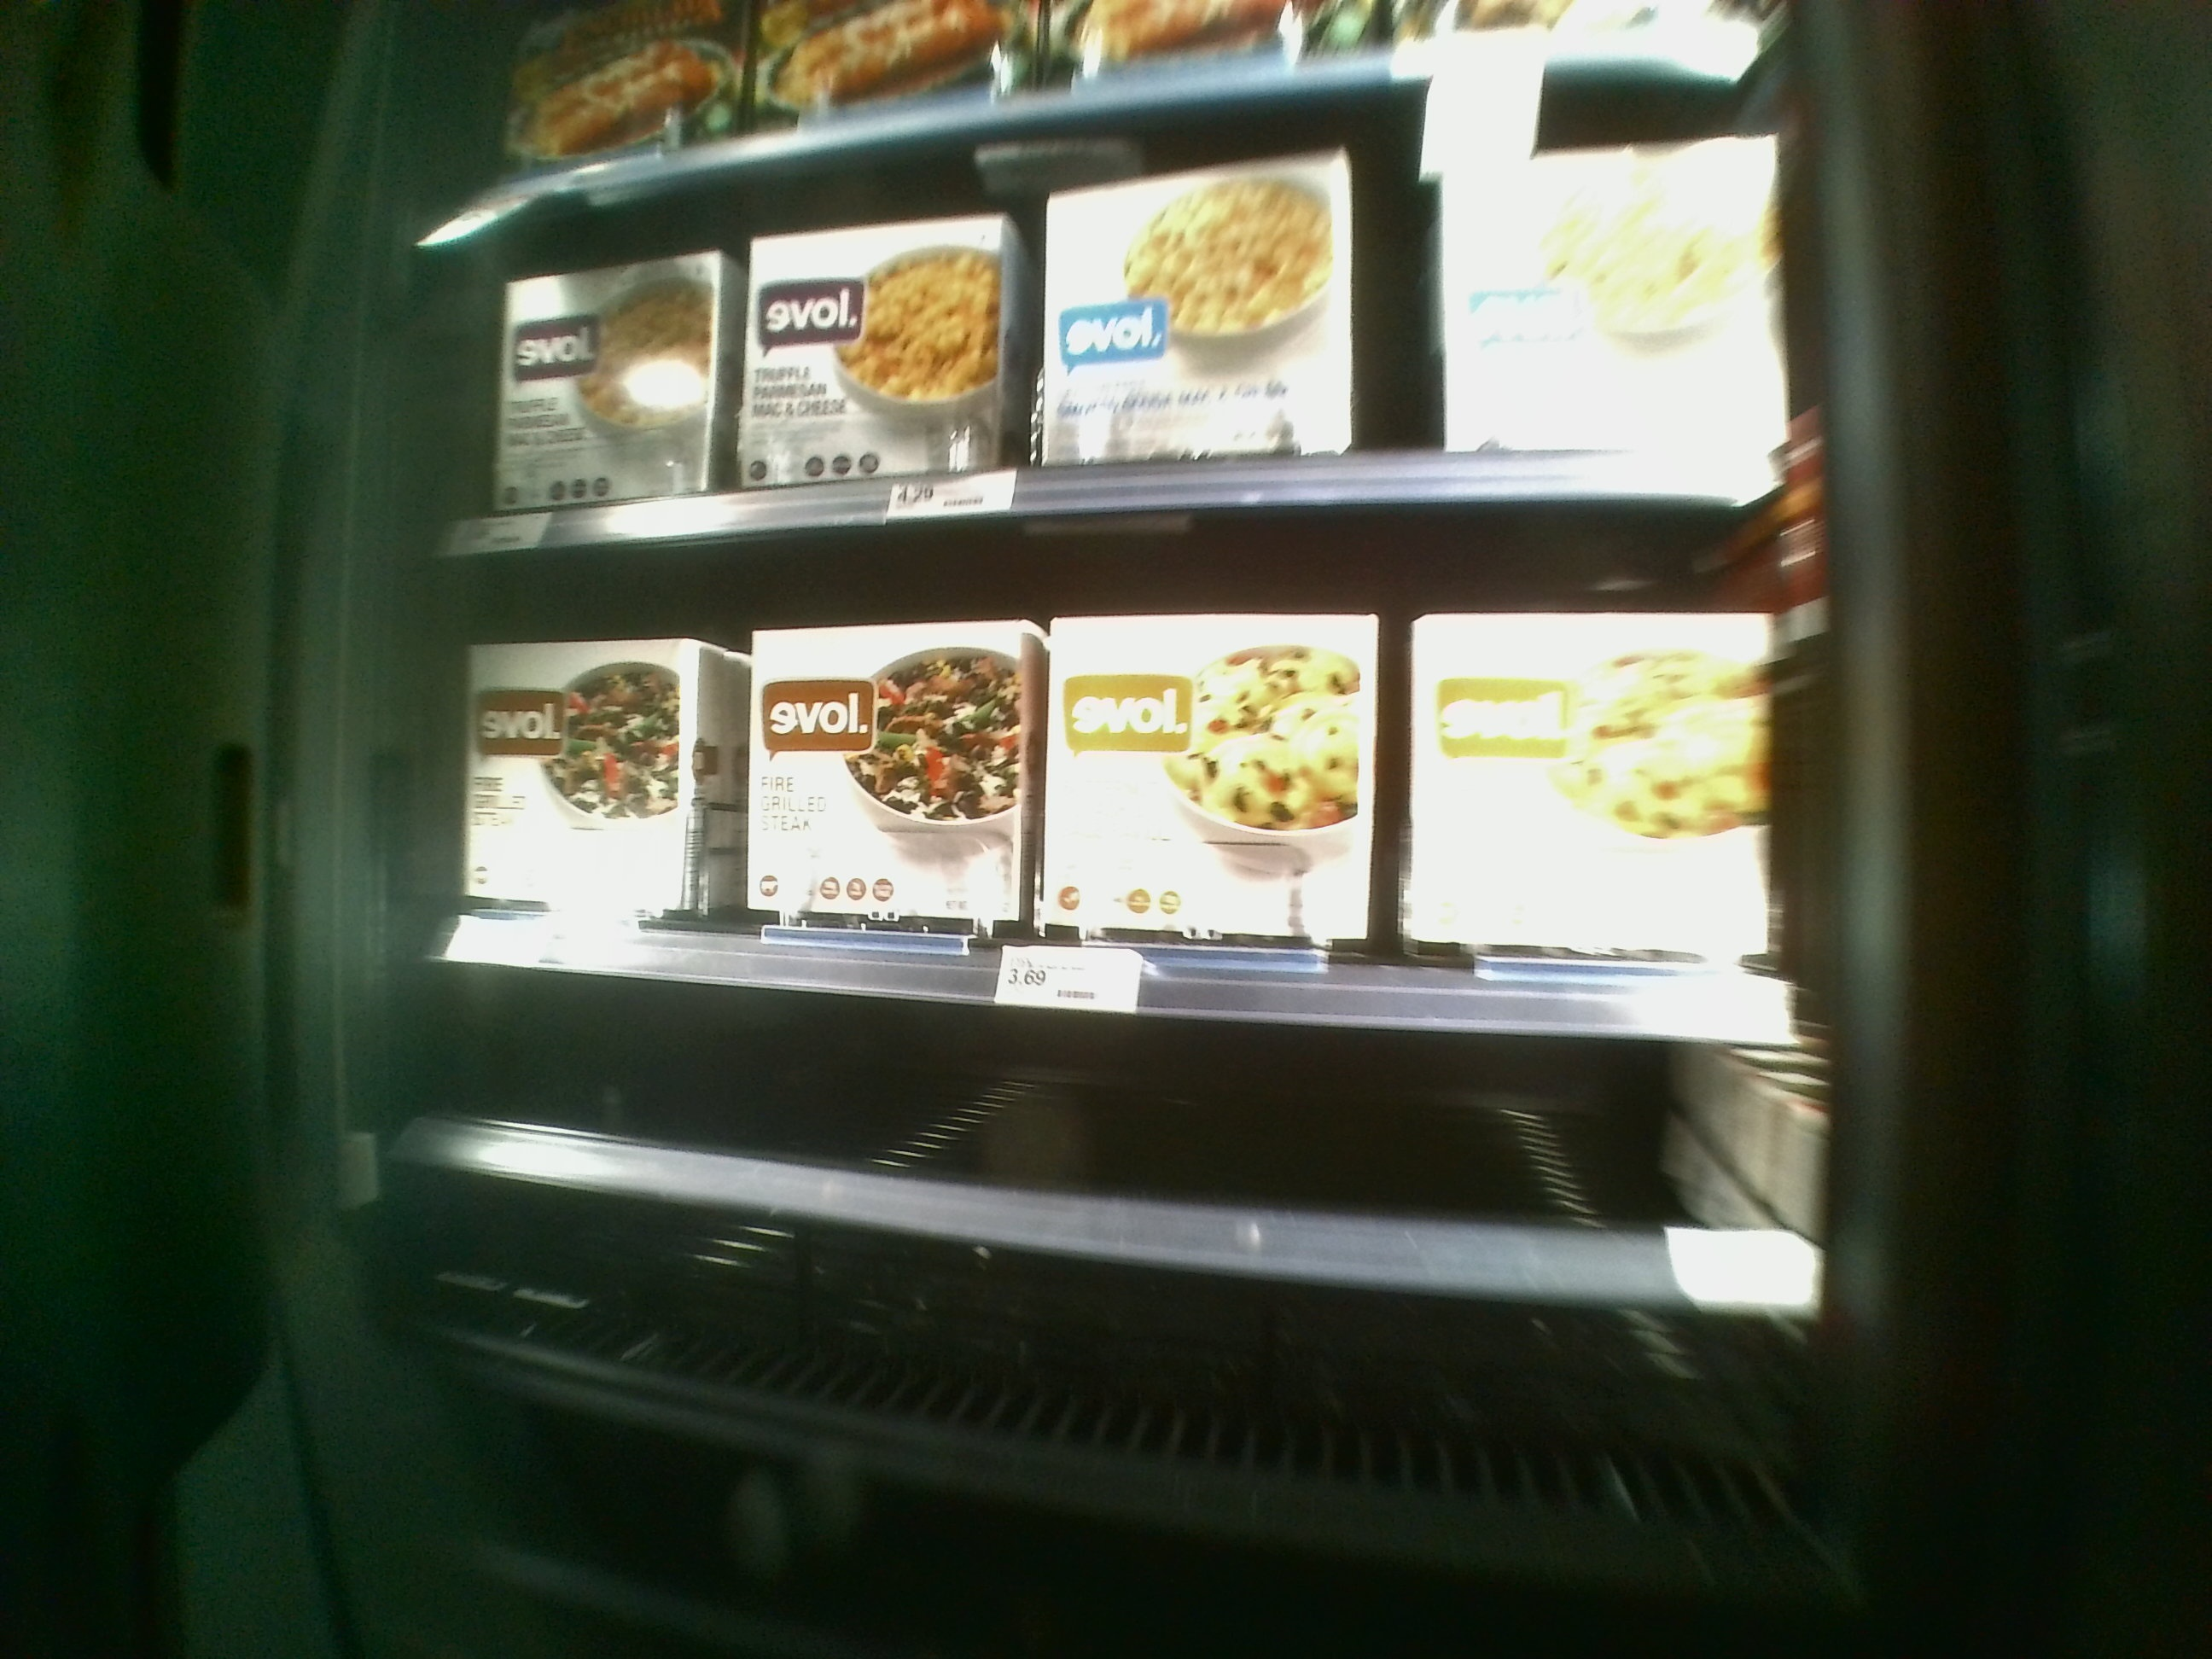shelf: (442, 528, 1785, 1012), (448, 113, 1794, 523), (453, 1032, 1817, 1312)
